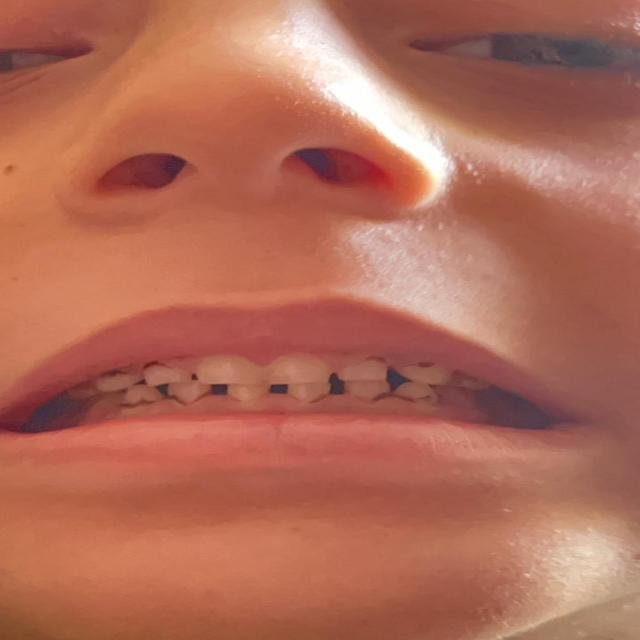tooth: (277, 356, 327, 380), (205, 364, 259, 384), (405, 364, 451, 382), (343, 363, 380, 382), (348, 386, 386, 404), (148, 368, 188, 384), (281, 387, 323, 402), (402, 387, 436, 401), (181, 388, 209, 404), (101, 377, 135, 389), (234, 388, 263, 402), (134, 392, 166, 404), (459, 384, 484, 391)
